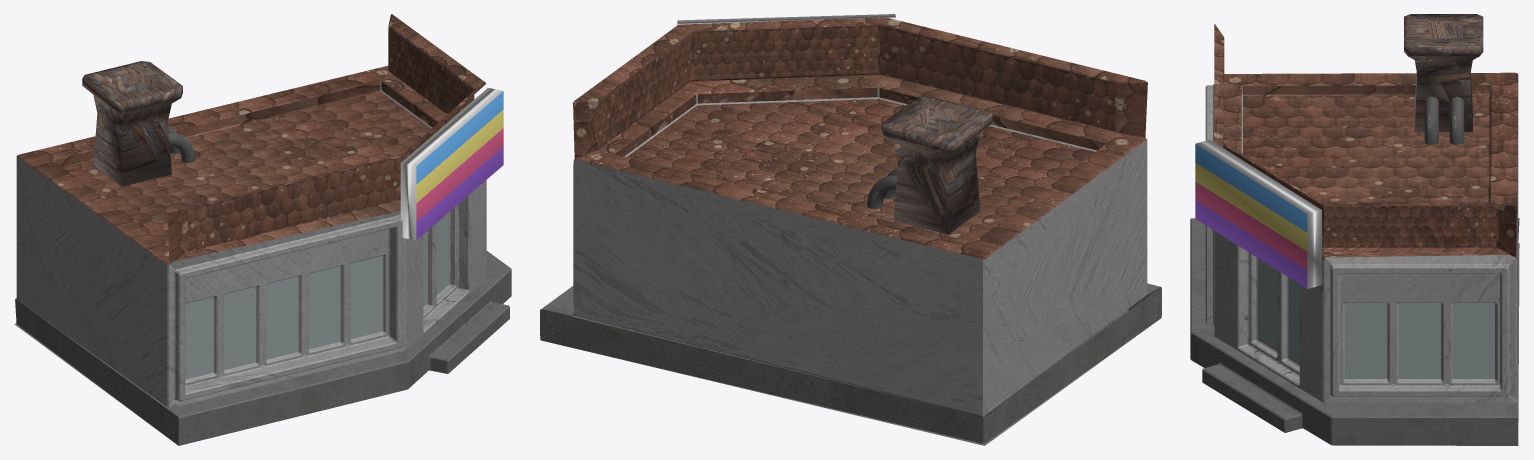
File: SMartBuilding.glb
3 renders of one model, left to right at view 1: azimuth 30°, elevation 25°; view 2: azimuth 150°, elevation 25°; view 3: azimuth 270°, elevation 25°, orthographic. The views are drawn at different scales.
Parts seen in each view (by area): view 1: Cube, Cube.001, Cube.002, Torus; view 2: Cube, Cube.002, Cube.001, Torus.001; view 3: Cube, Cube.001, Cube.002, Torus.001, Torus.
Part boxes in pixels (x1,y1,x2,y2): Cube: (14, 14, 511, 445); Cube.001: (400, 87, 503, 240); Cube.002: (82, 61, 182, 186); Torus: (168, 132, 195, 162); Cube: (540, 17, 1161, 445); Cube.002: (881, 96, 992, 234); Cube.001: (677, 14, 896, 24); Torus.001: (867, 175, 896, 208); Cube: (1190, 23, 1519, 445); Cube.001: (1195, 139, 1321, 288); Cube.002: (1404, 14, 1483, 131); Torus.001: (1449, 96, 1464, 144); Torus: (1424, 96, 1438, 144).
Size of the model in its own units: 16.24 by 9.69 by 11.31.
Materials: 9 (8 with a texture image).
